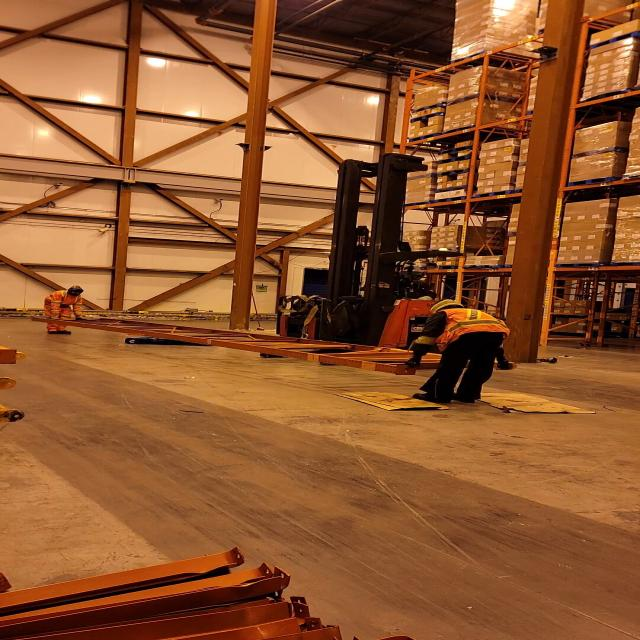forklift: (260, 159, 442, 374)
human: (401, 300, 514, 408), (354, 269, 445, 313), (38, 284, 91, 337)
objectofinterest: (25, 311, 507, 379), (465, 388, 602, 417), (333, 389, 462, 413), (117, 334, 217, 349)
